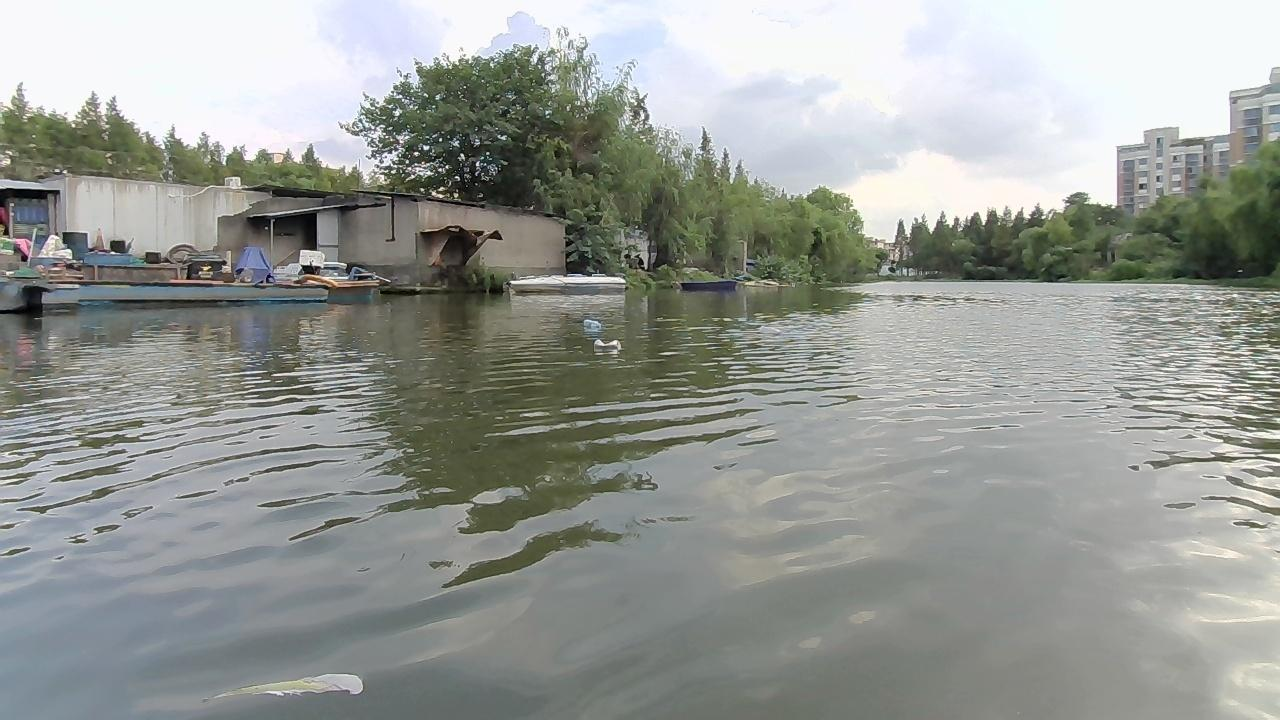bottle: (591, 337, 621, 356), (581, 316, 601, 332)
